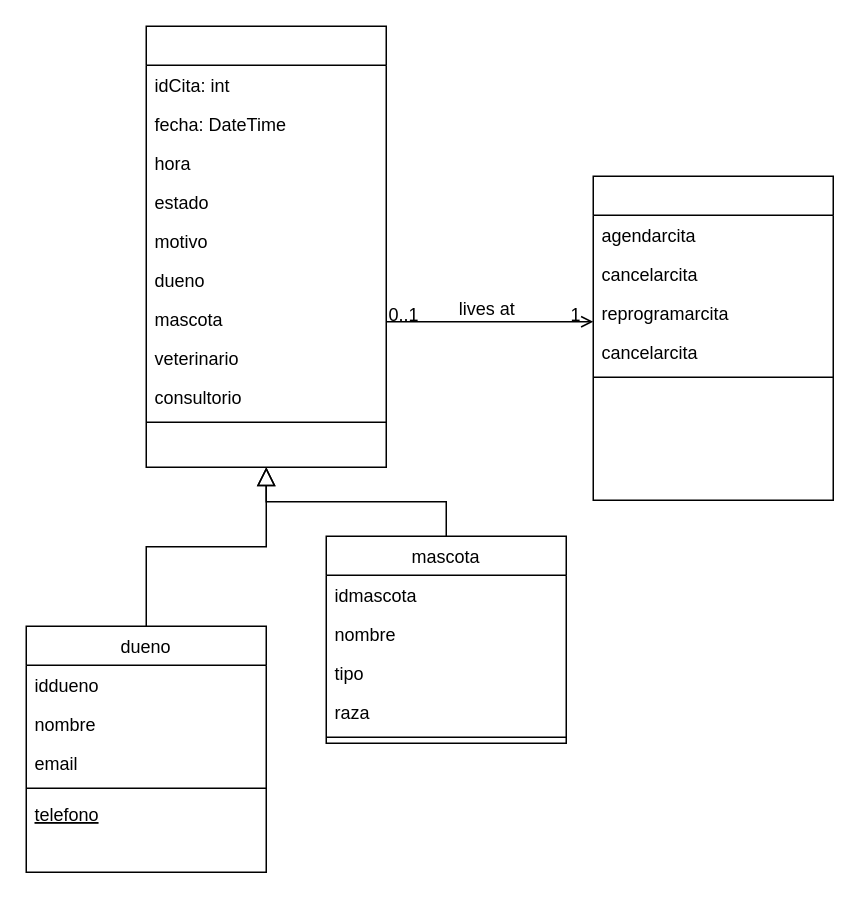
The diagram is 860 pixels wide and 899 high, and some of its shapes have lost their labels. The shapes that lost their labels are listed below. From the top down, each one's box as (x1, y1, x2, y2) in pixels, then its label:
(145, 25, 386, 467): Atributos
(592, 175, 833, 500): metodos
